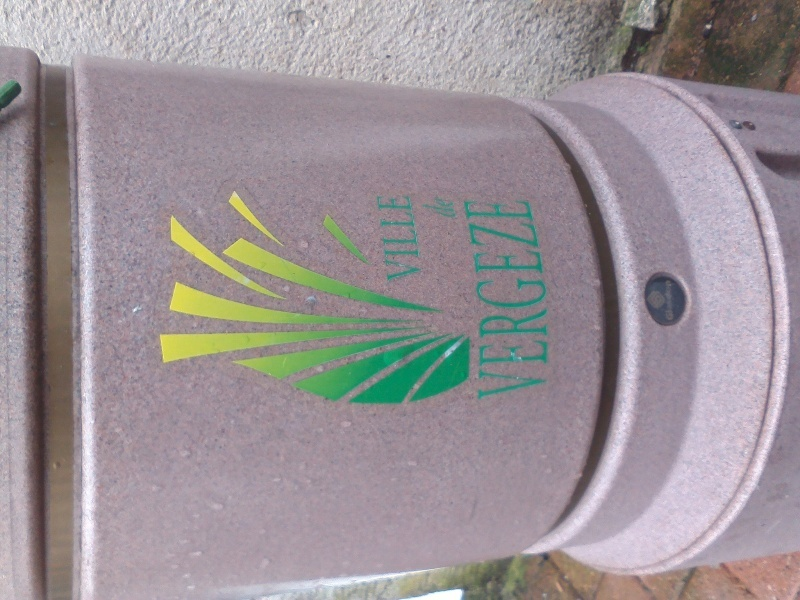text: (465, 193, 480, 400), (481, 193, 496, 400), (497, 193, 512, 400), (513, 193, 528, 400), (529, 193, 544, 400), (545, 193, 552, 400), (385, 192, 400, 283), (401, 192, 416, 283), (373, 192, 384, 283), (417, 192, 423, 283), (433, 193, 448, 220), (421, 193, 432, 220), (665, 280, 672, 320), (449, 193, 457, 220), (463, 193, 464, 400), (673, 280, 676, 320)
